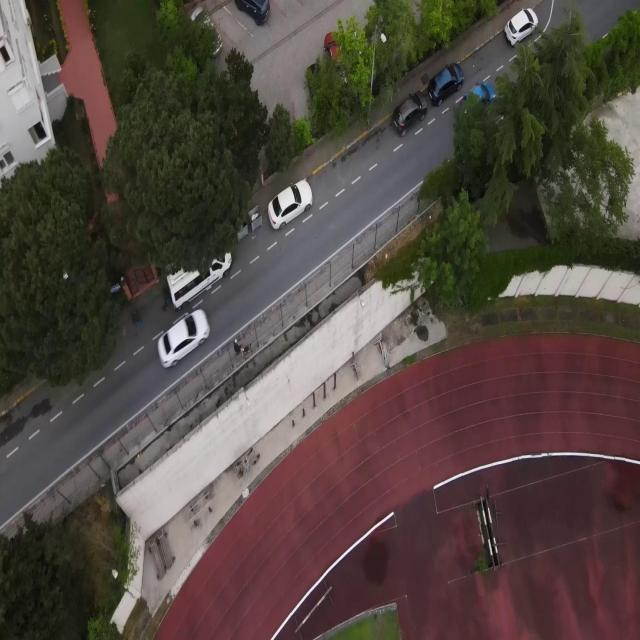p3rson: (233, 339, 242, 356)
